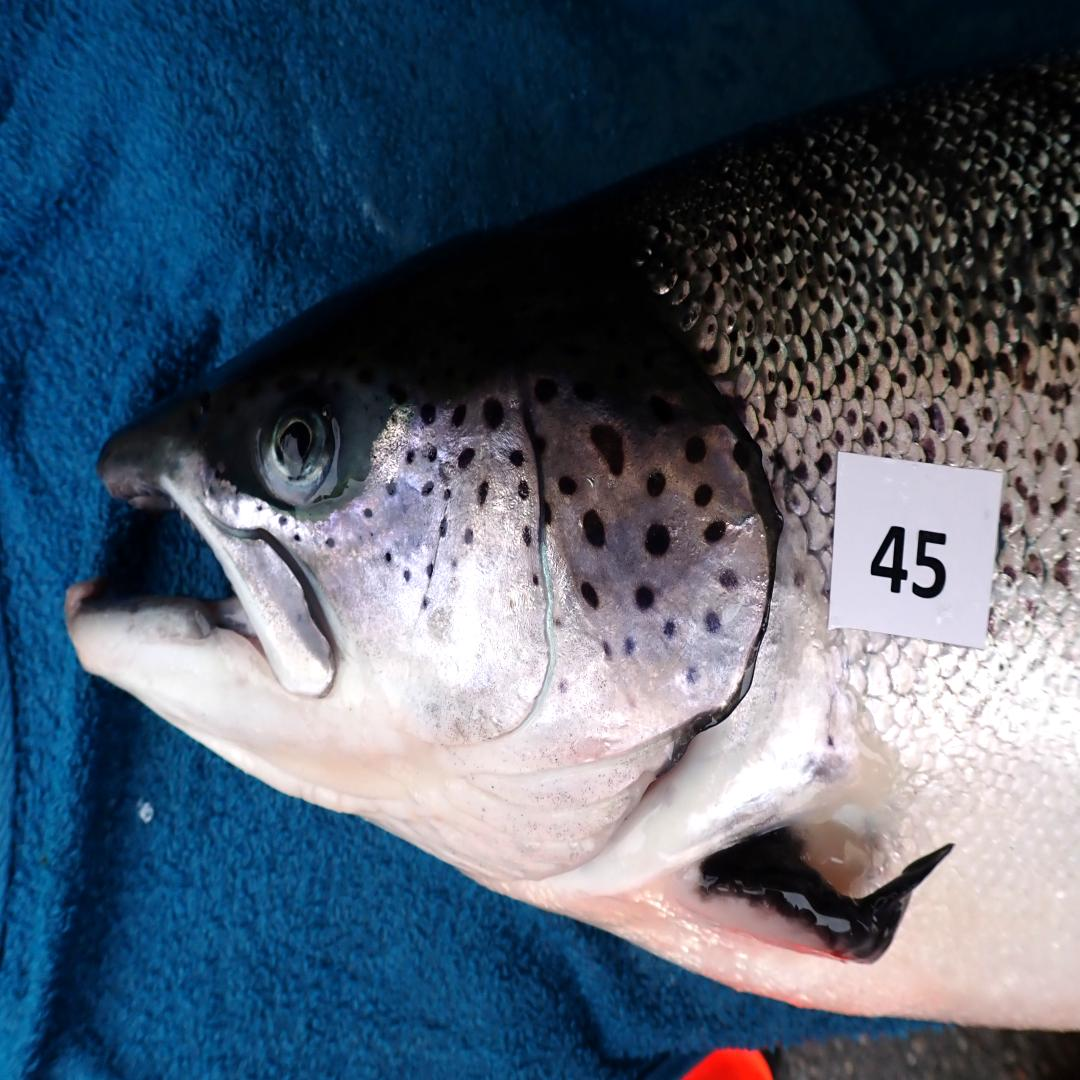roi: (328, 405, 773, 896)
